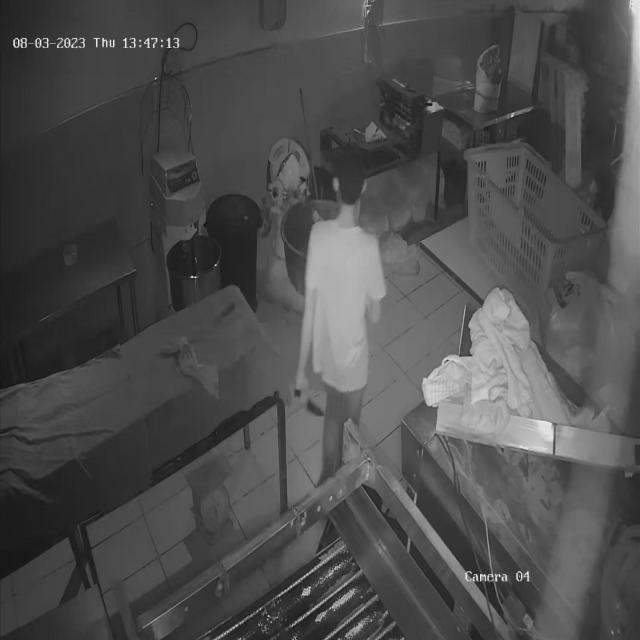Knife: (292, 389, 329, 424)
